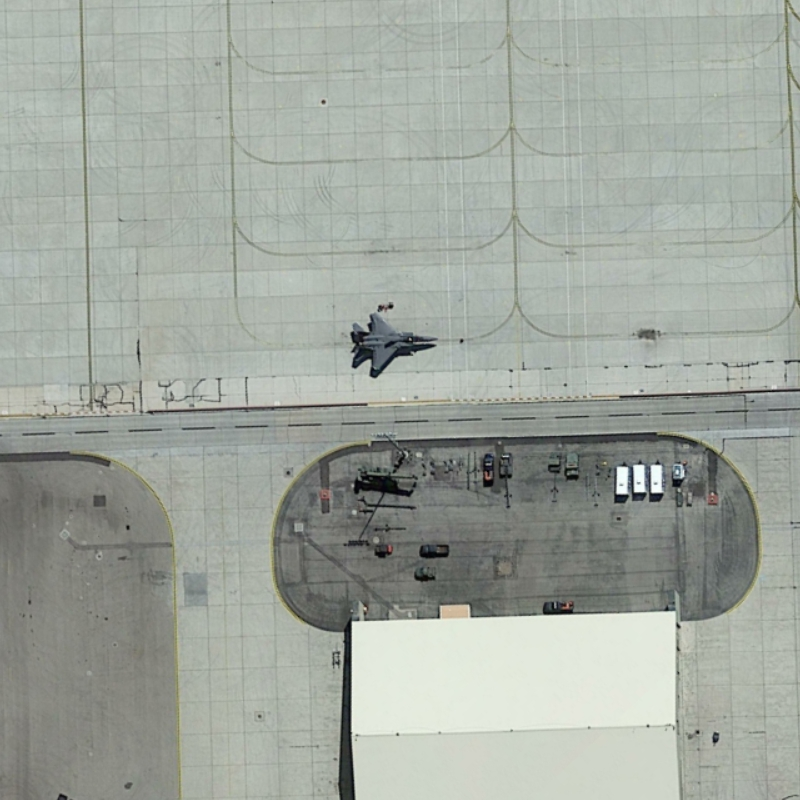A13: (344, 307, 442, 378)
